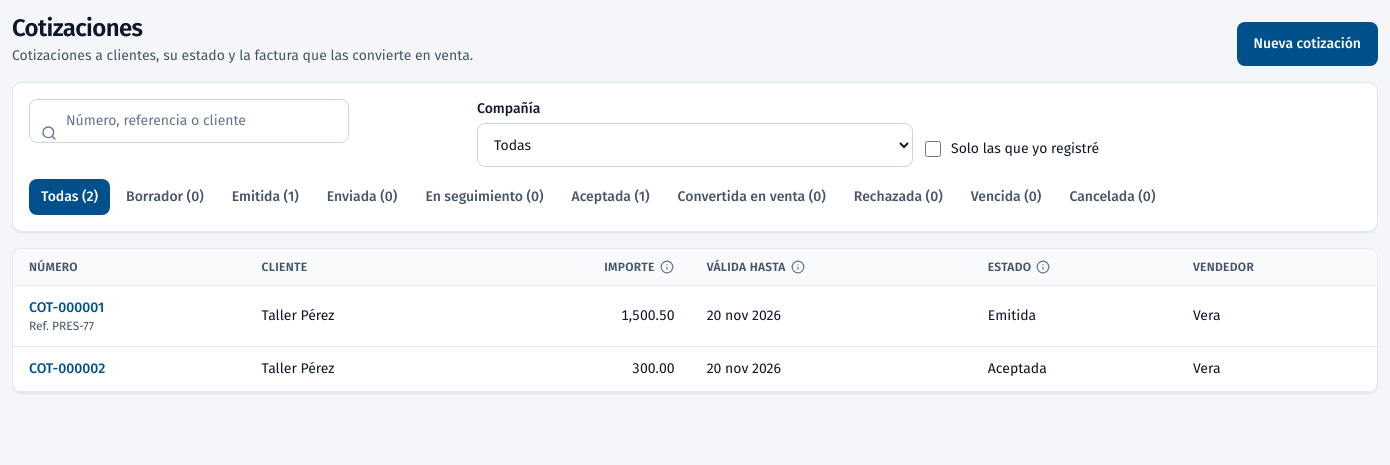
Test case: listado de cotizaciones › filtra por estado y avisa que aceptada no es venta
This screenshot has width=1390, height=465.
Click the button "Aceptada (1)" at (610, 197), box [560,179,662,215]
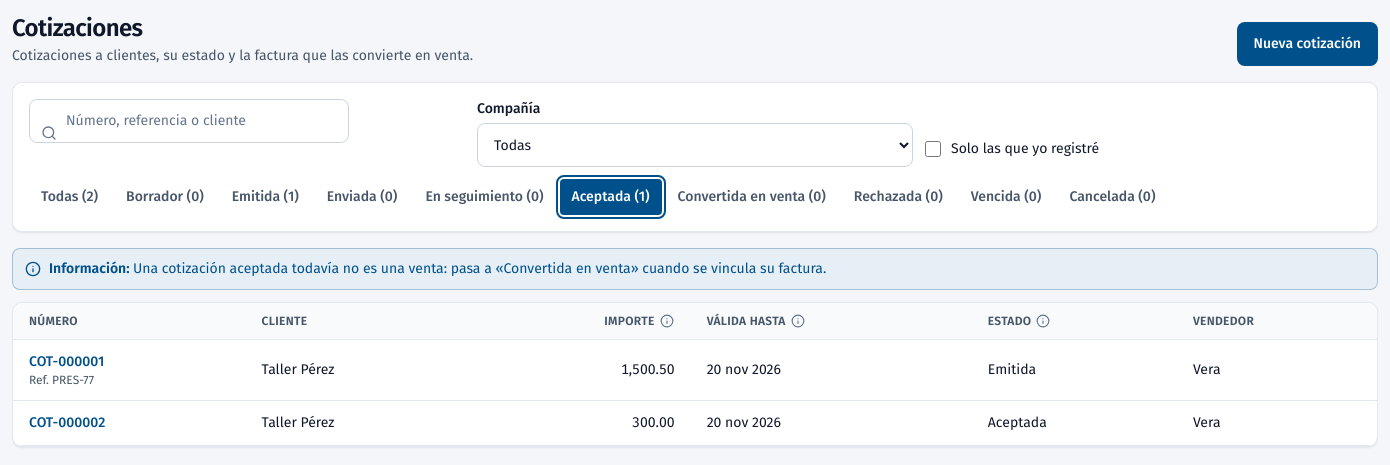
Now the text "Una cotización aceptada todavía no es una venta" is shown, box [133,260,826,277]
